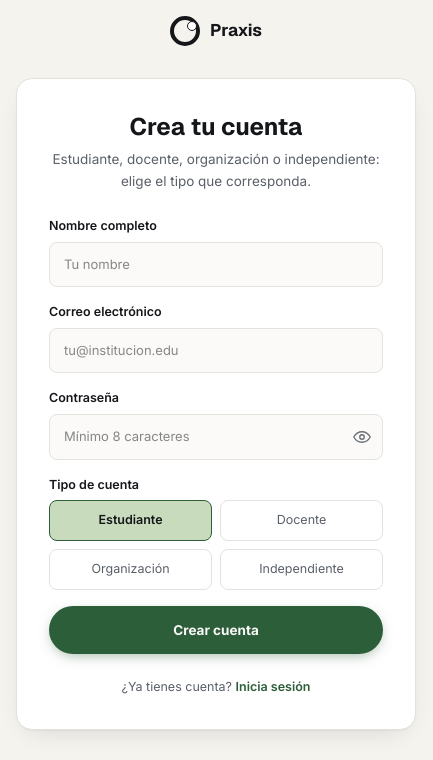
Test case: Register › shows validation errors when submitted empty
This screenshot has width=433, height=760.
Click the button "Crear cuenta": (216, 630) x1=49 y1=606 x2=383 y2=654
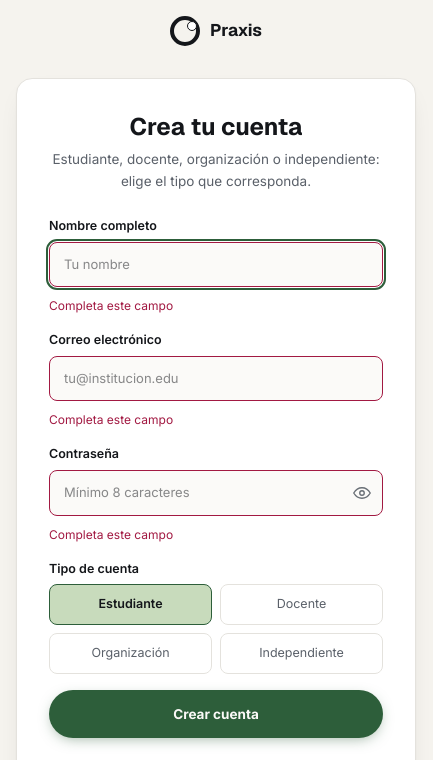
Check: the text "Completa este campo" is shown 3 times, box x1=49 y1=298 x2=173 y2=313; x1=49 y1=412 x2=173 y2=427; x1=49 y1=527 x2=173 y2=542
